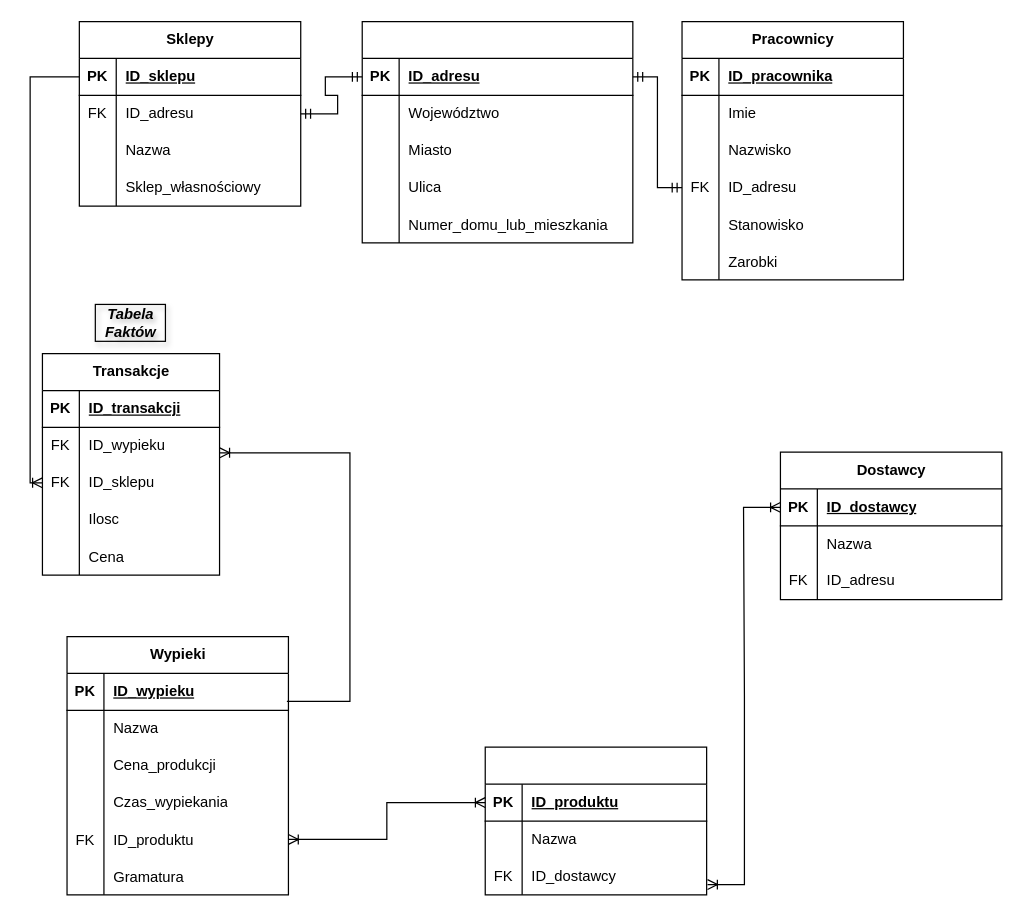
Some shapes in this 1023 by 918 pixel diagram are drawn without their labels. Here are the shapes that lost their labels. From the top down, the box of each, then its label:
(361, 20, 633, 243): Adresy
(484, 746, 707, 895): Produkty
